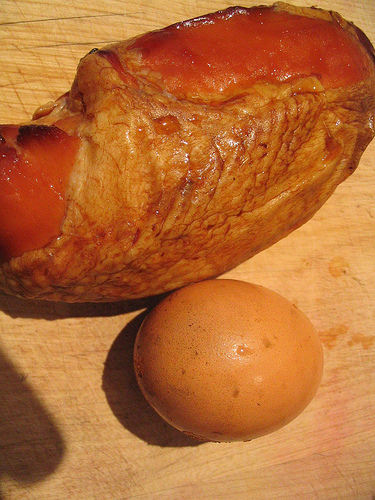egg: (132, 277, 323, 448)
